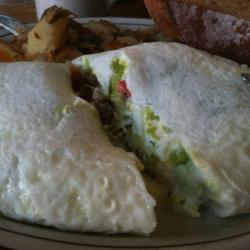omelette: (1, 49, 250, 230)
